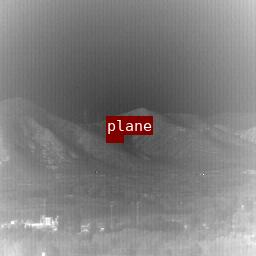plane: (106, 135, 123, 142)
